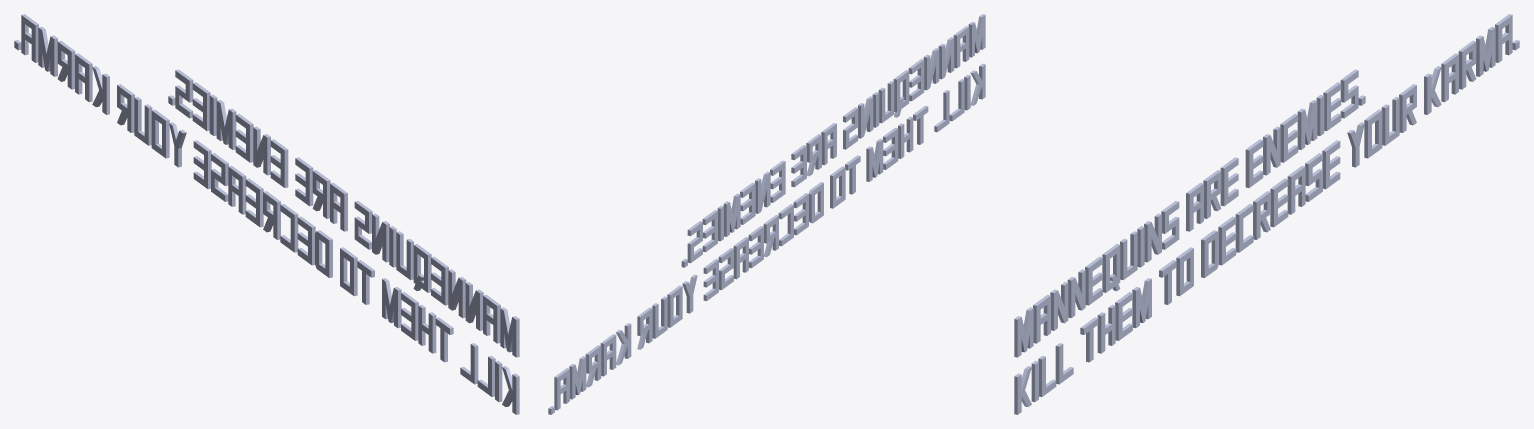
The model's file is Shoot_mannequin.FBX.
3 renders of one model, left to right at view 1: azimuth 30°, elevation 25°; view 2: azimuth 150°, elevation 25°; view 3: azimuth 330°, elevation 25°, orthographic. The views are drawn at different scales.
Visible parts, largest first — view 1: Boss-Extrude1[17], Boss-Extrude1[1], Boss-Extrude1[47], Boss-Extrude1[29], Boss-Extrude1[6], Boss-Extrude1[41], Boss-Extrude1[37], Boss-Extrude1[31], Boss-Extrude1[4], Boss-Extrude1[9], Boss-Extrude1[15], Boss-Extrude1[27] (+27 smaller); view 2: Boss-Extrude1[29], Boss-Extrude1[6], Boss-Extrude1[1], Boss-Extrude1[47], Boss-Extrude1[17], Boss-Extrude1[3], Boss-Extrude1[4], Boss-Extrude1[2], Boss-Extrude1[9], Boss-Extrude1[15], Boss-Extrude1[7], Boss-Extrude1[46] (+26 smaller); view 3: Boss-Extrude1[17], Boss-Extrude1[1], Boss-Extrude1[47], Boss-Extrude1[29], Boss-Extrude1[6], Boss-Extrude1[41], Boss-Extrude1[37], Boss-Extrude1[31], Boss-Extrude1[4], Boss-Extrude1[9], Boss-Extrude1[15], Boss-Extrude1[27] (+27 smaller).
Boxes of the visible parts, x1,y1,x2,y2 form: Boss-Extrude1[17]: (216,100,236,149); Boss-Extrude1[1]: (500,307,519,357); Boss-Extrude1[47]: (38,26,57,76); Boss-Extrude1[29]: (382,278,401,328); Boss-Extrude1[6]: (413,244,431,292); Boss-Extrude1[41]: (151,109,169,158); Boss-Extrude1[37]: (228,165,246,214); Boss-Extrude1[31]: (340,247,357,296); Boss-Extrude1[4]: (448,269,466,318); Boss-Extrude1[9]: (372,213,389,262); Boss-Extrude1[15]: (253,126,270,175); Boss-Extrude1[27]: (418,304,436,353); Boss-Extrude1[29]: (866,138,883,181); Boss-Extrude1[6]: (893,70,909,117); Boss-Extrude1[1]: (968,14,985,57); Boss-Extrude1[47]: (569,356,586,399); Boss-Extrude1[17]: (723,193,740,236); Boss-Extrude1[3]: (938,37,954,79); Boss-Extrude1[4]: (923,48,939,90); Boss-Extrude1[2]: (953,26,969,68); Boss-Extrude1[9]: (858,96,873,138); Boss-Extrude1[15]: (755,171,770,213); Boss-Extrude1[7]: (878,81,894,123); Boss-Extrude1[46]: (585,345,601,387); Boss-Extrude1[17]: (1297,100,1317,149); Boss-Extrude1[1]: (1014,307,1033,357); Boss-Extrude1[47]: (1476,26,1495,76); Boss-Extrude1[29]: (1132,278,1151,328); Boss-Extrude1[6]: (1102,244,1120,292); Boss-Extrude1[41]: (1364,109,1382,158); Boss-Extrude1[37]: (1287,165,1305,214); Boss-Extrude1[31]: (1176,247,1193,296); Boss-Extrude1[4]: (1067,269,1085,318); Boss-Extrude1[9]: (1144,213,1161,262); Boss-Extrude1[15]: (1263,126,1280,175); Boss-Extrude1[27]: (1097,304,1115,353).
Size of the model in its own units: 0.1 by 2.52 by 24.09.
